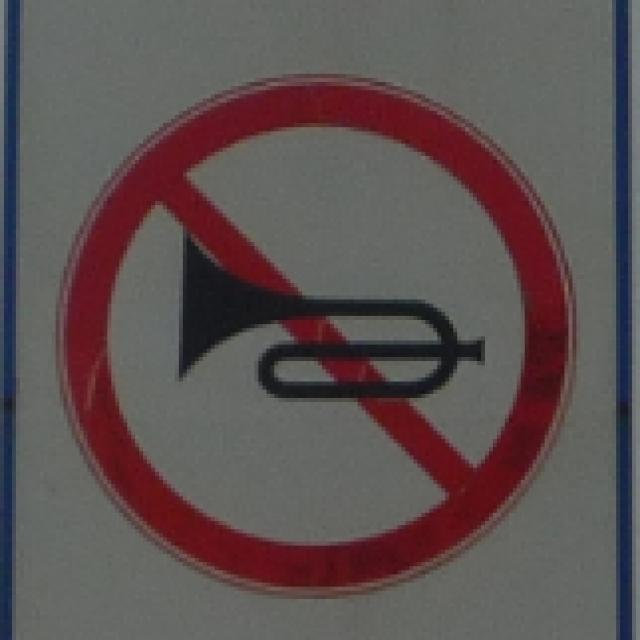No Horn: (54, 73, 576, 594)
